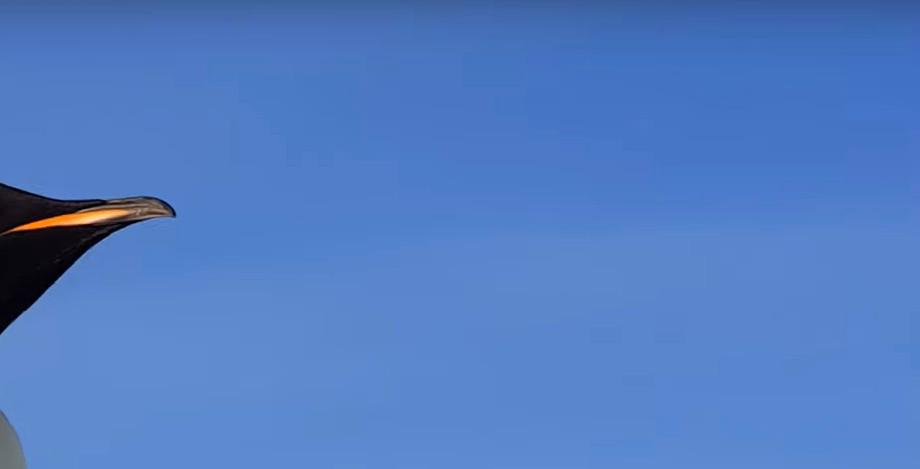Emperor Penguin: (0, 157, 198, 469)
